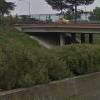Bridge: (17, 10, 98, 44)
